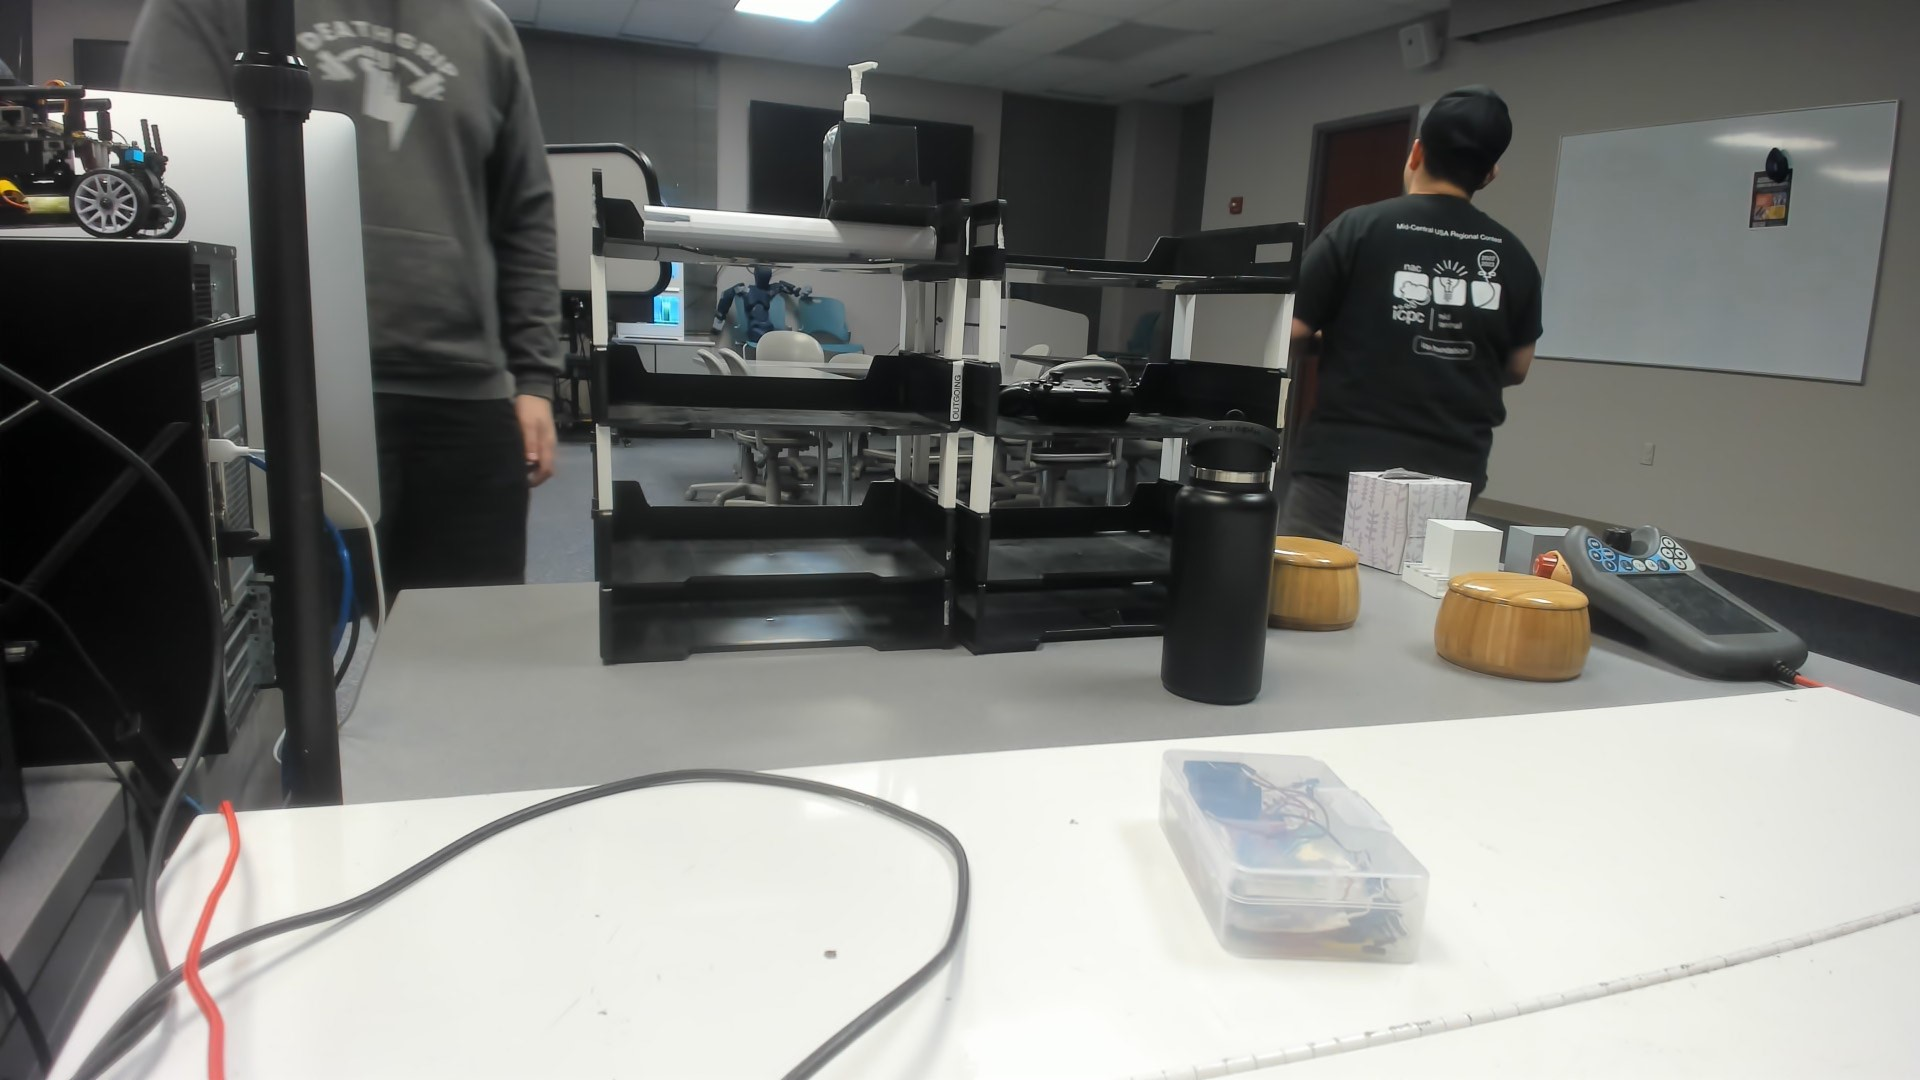black pallet: (816, 117, 943, 227)
grey pallet: (1501, 522, 1571, 576)
white pallet: (1396, 516, 1503, 605)
